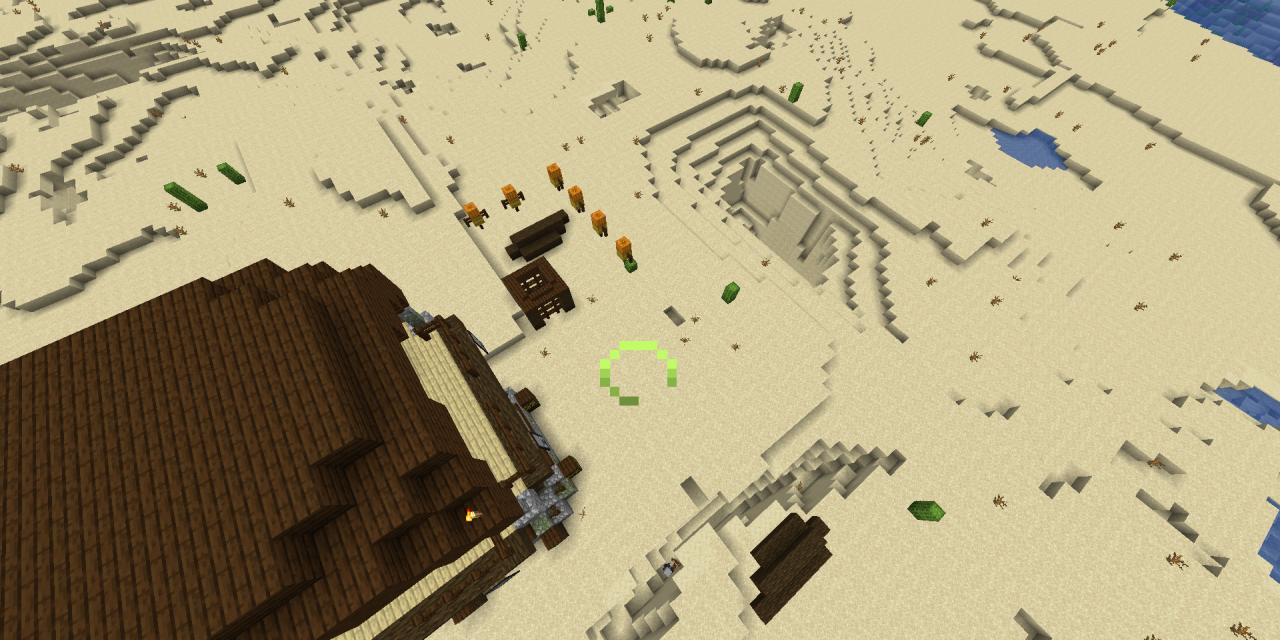pillager outpost: (0, 244, 599, 640)
